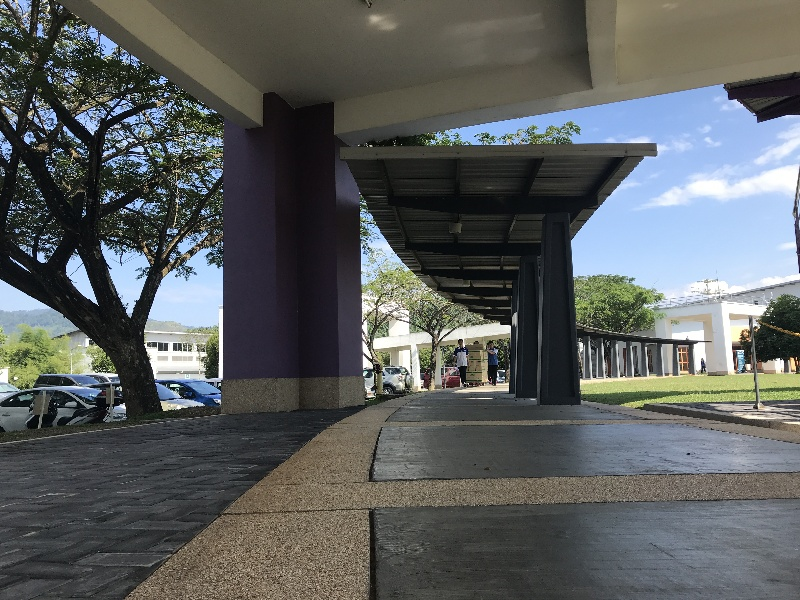Block D corridor: (4, 5, 791, 592)
pillar: (199, 92, 374, 417), (512, 209, 587, 414)
